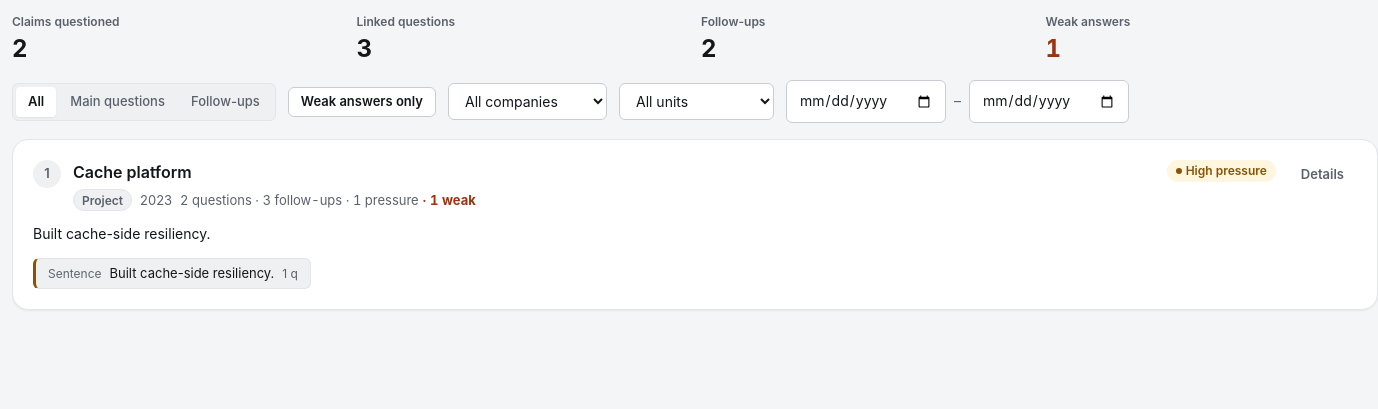
Scenario: ResumeHeatmapPage › ranks pressured claims and reveals the questions behind a highlight in place
Expected: the heading "Cache platform" is shown, [73,162,192,182]
Expected: the text "High pressure" is shown, [1167,160,1276,182]
Click the radio button labelled "Follow-ups".
click(225, 102)  # box [179,87,272,117]
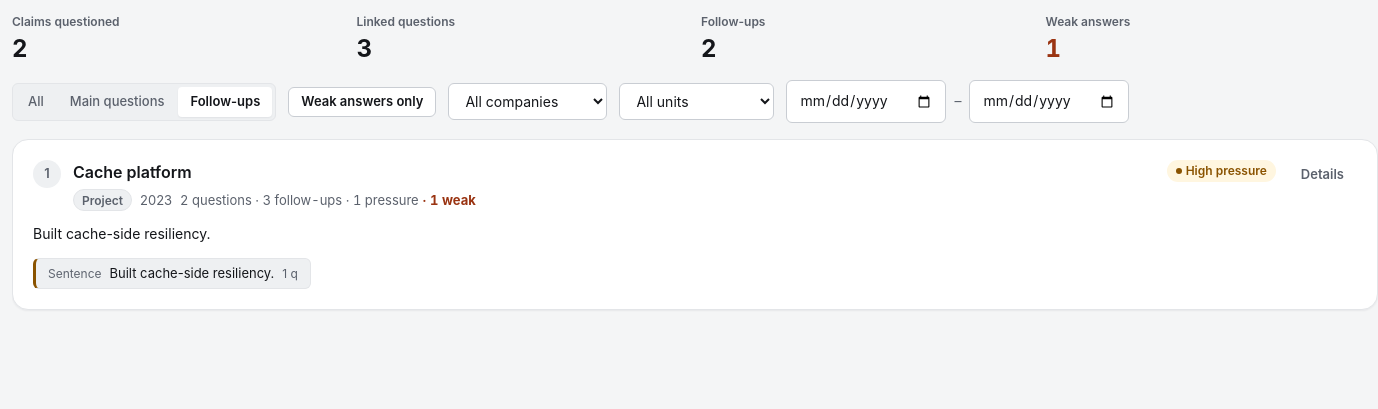
Expected: the radio button labelled "Follow-ups" is checked, [178,87,272,117]
Click the button "Sentence Built cache-side resiliency. 1 q".
click(172, 273)  # box [33,258,311,289]
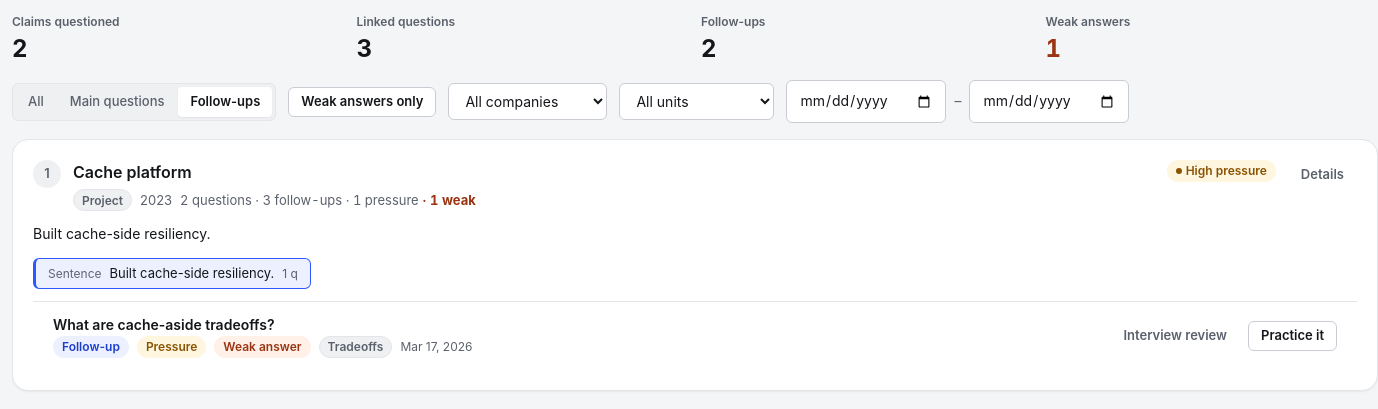
Expected: the text "What are cache-aside tradeoffs?" is shown, [53,316,274,332]
